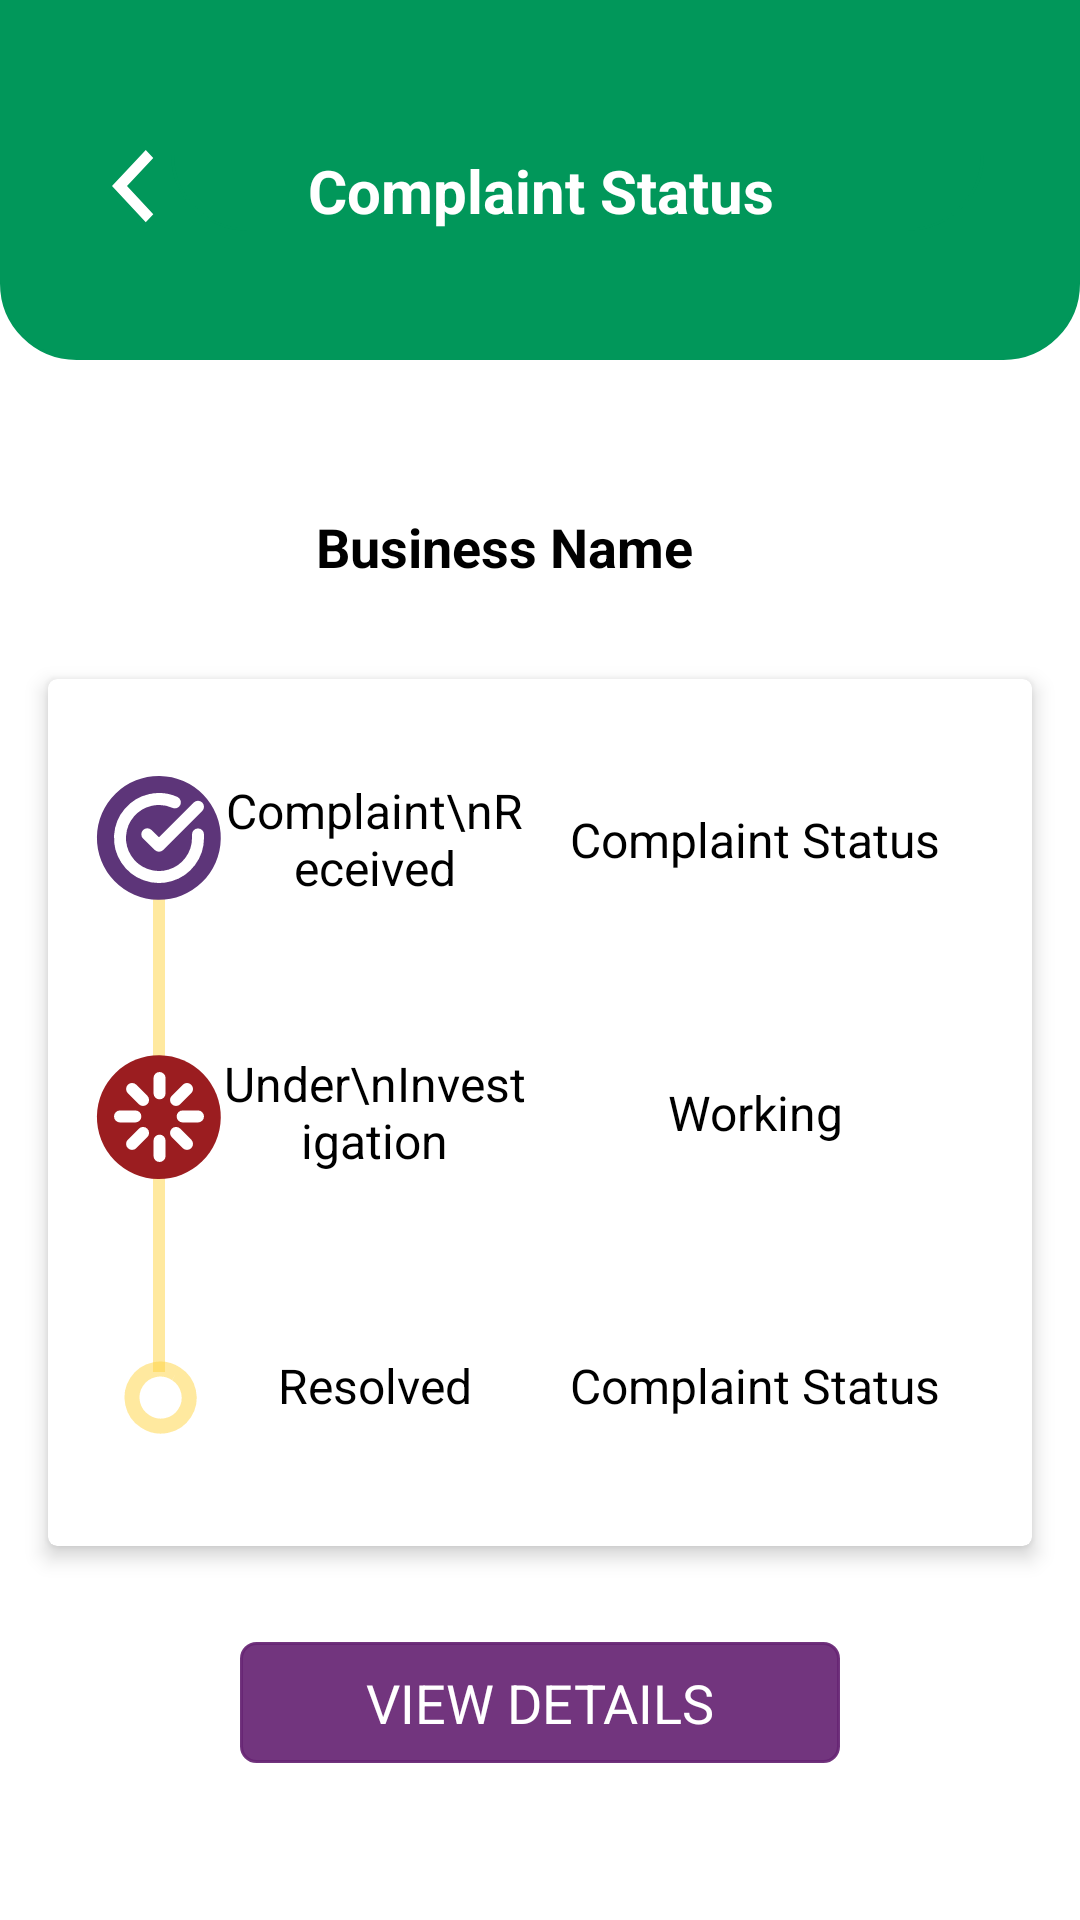

Point at icon controls on the screen. Image size 1080px x 1920px, points as point (x, y).
back: point (132, 186)
